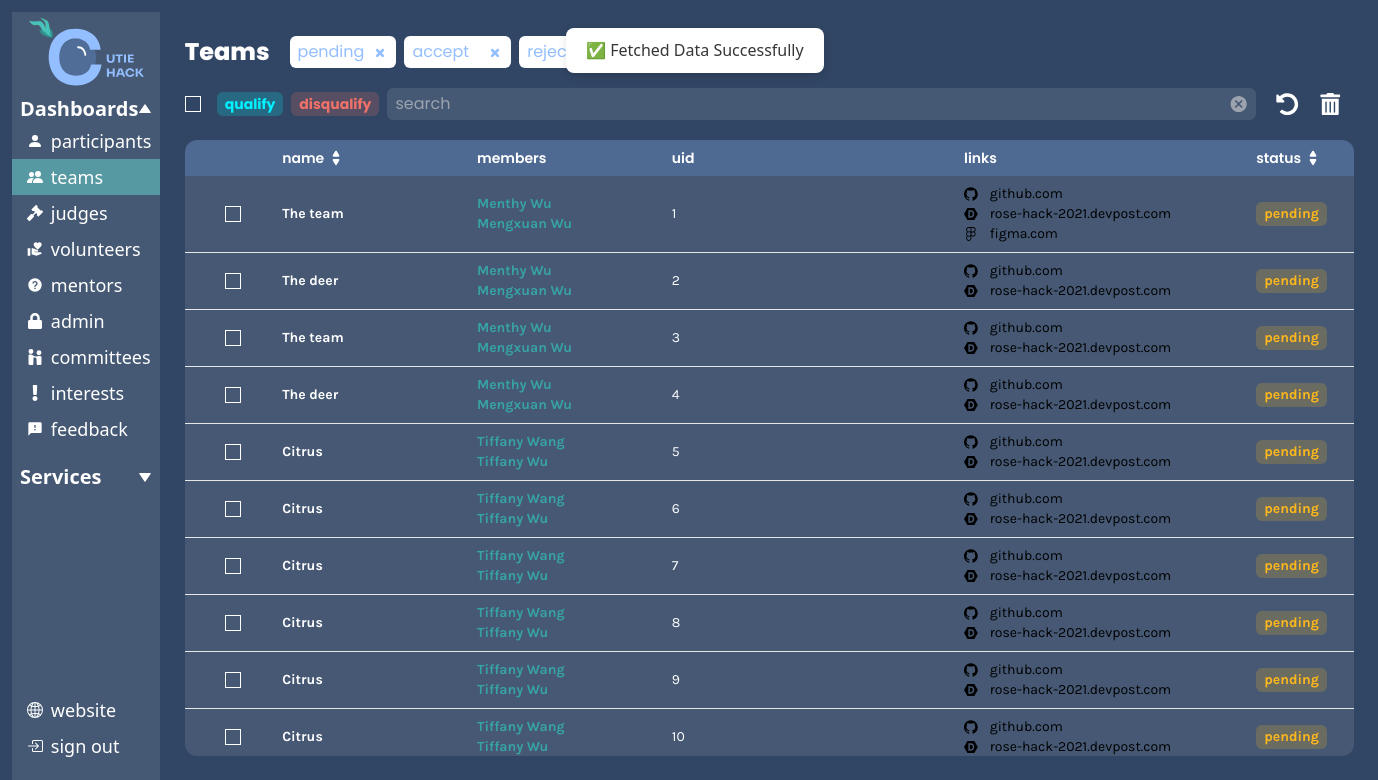
Test: Team Sort › Sort Name Down
This screenshot has width=1378, height=780.
Click the icon with test id "name-sort-down" at x=336, y=162, box [332, 158, 340, 166]
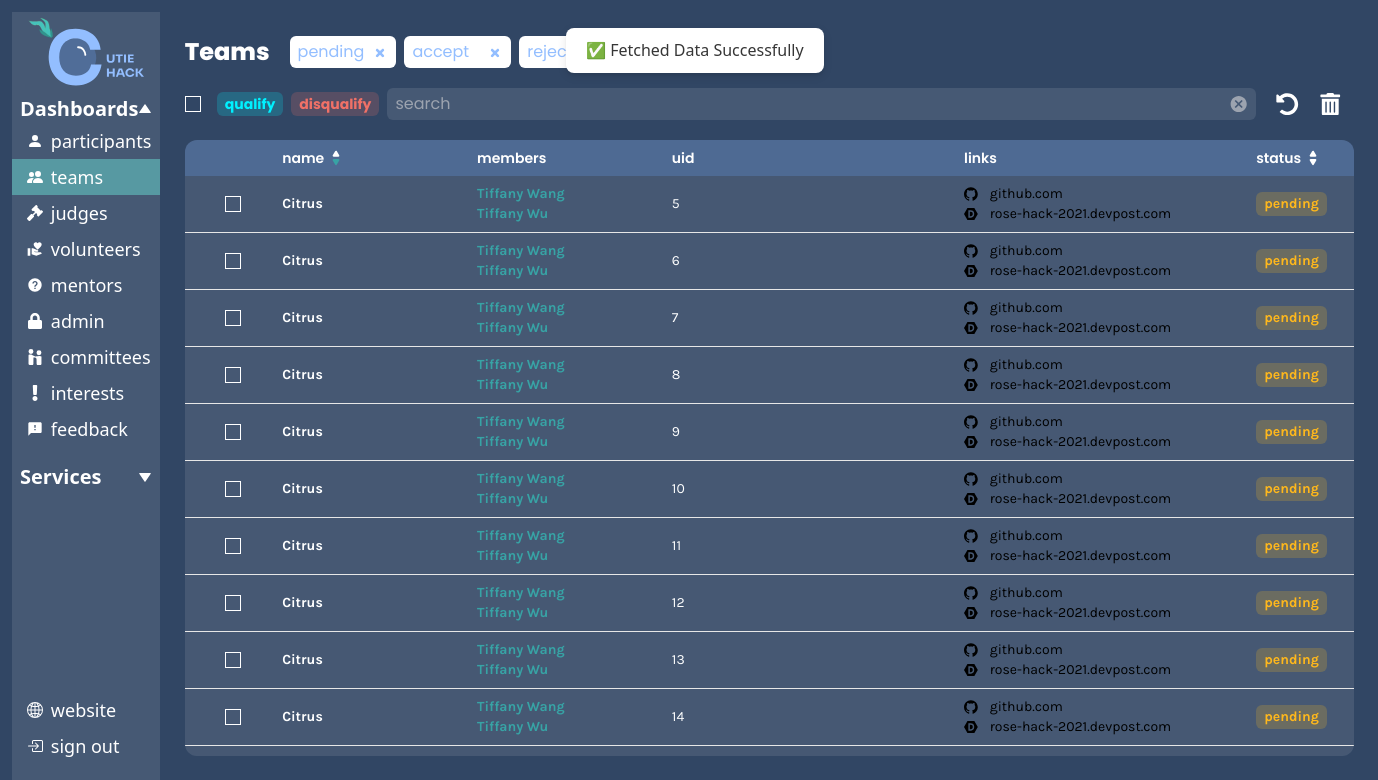
Expected: the 1st text with test id "name" reads "Citrus", [282, 194, 323, 214]
Expected: the 2nd text with test id "name" reads "Citrus", [282, 251, 323, 271]
Expected: the 3rd text with test id "name" reads "Citrus", [282, 308, 323, 328]
